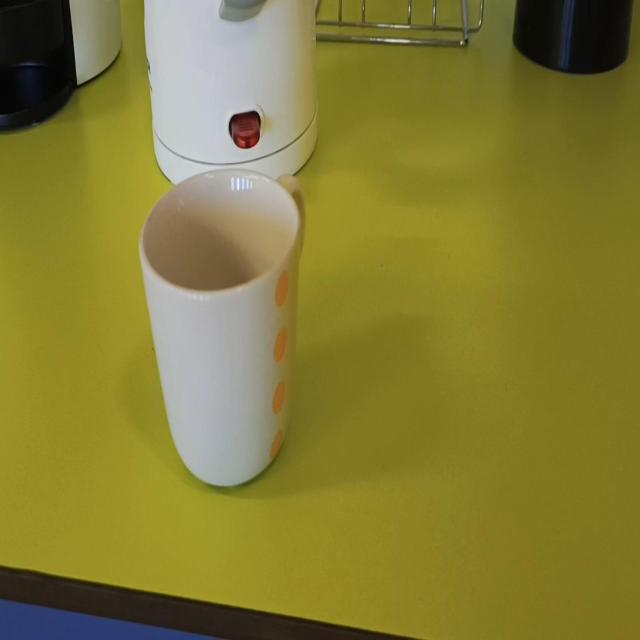cup: (127, 174, 330, 504)
